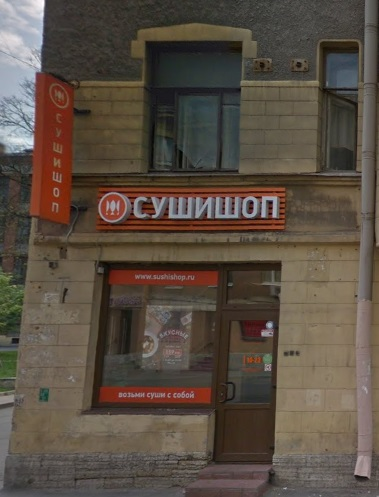cantilever: (34, 68, 86, 224)
door: (210, 310, 279, 462)
signboard: (96, 185, 289, 229)
window: (92, 264, 223, 409), (147, 41, 243, 172)
